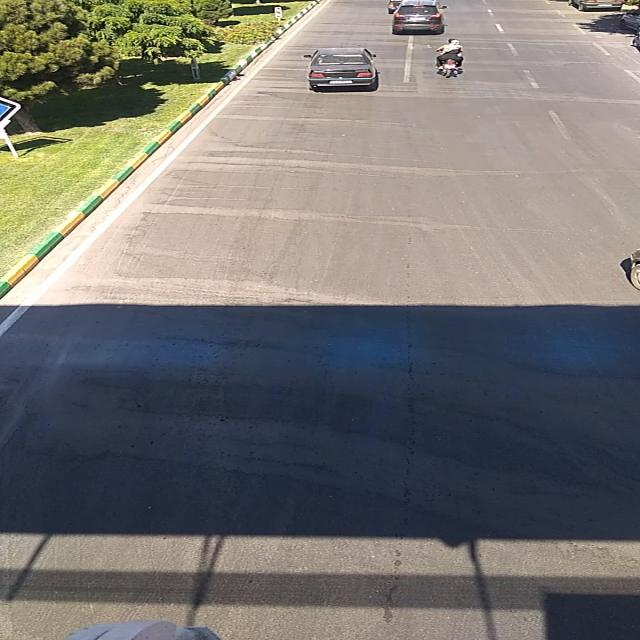car: (302, 48, 383, 92), (388, 1, 447, 34)
motor: (436, 40, 466, 76)
